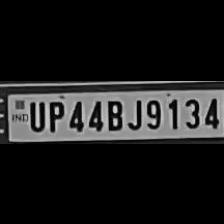1: (164, 95, 181, 129)
3: (180, 94, 200, 128)
4: (65, 97, 84, 131), (84, 96, 102, 130), (202, 94, 220, 128)
9: (141, 95, 161, 129)
B: (103, 94, 123, 130)
J: (125, 94, 143, 130)
P: (44, 96, 64, 132)
U: (26, 97, 44, 130)
